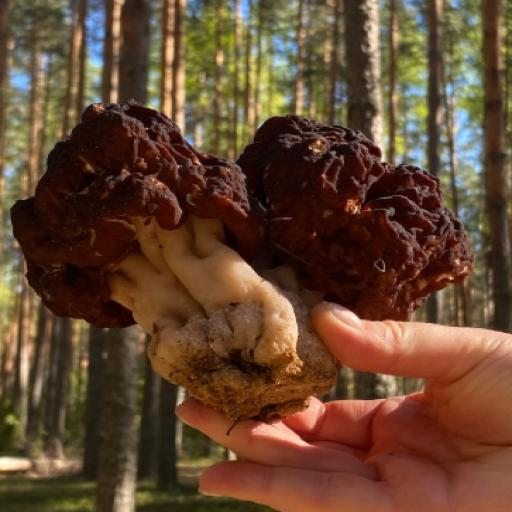False Morel: (14, 112, 469, 405)
